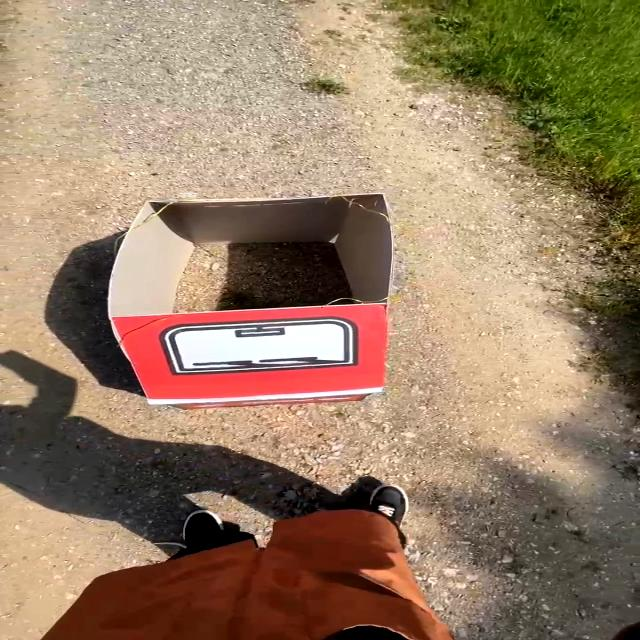red_car: (65, 170, 462, 410)
